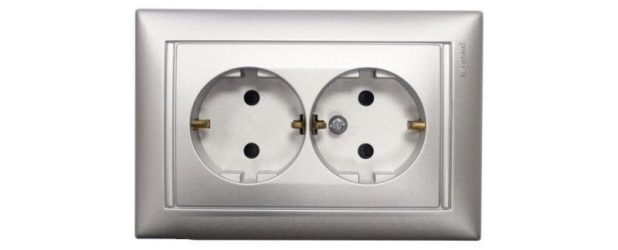raccoon: (188, 65, 308, 186), (308, 65, 428, 186)
